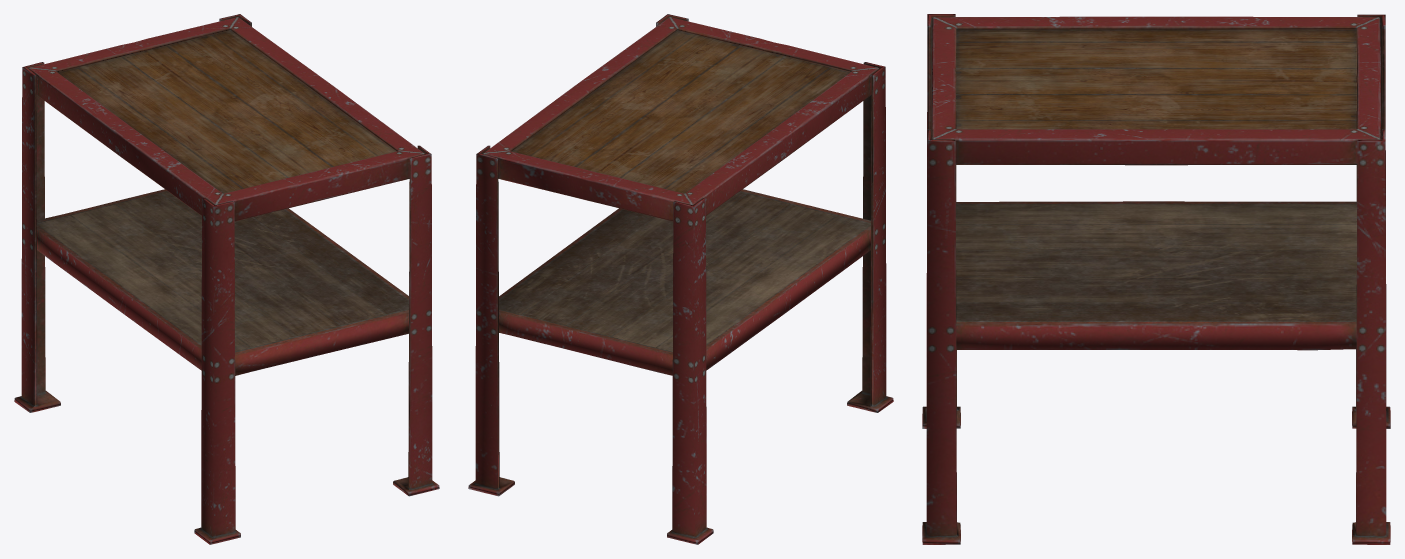
File: table.glb
The picture shows the model from 3 angles, left to right: view 1: azimuth 30°, elevation 25°; view 2: azimuth 150°, elevation 25°; view 3: azimuth 270°, elevation 25°; orthographic projection. The views are drawn at different scales.
Parts seen in each view (by area): view 1: g (×4); view 2: g (×4); view 3: g (×4).
Boxes of the visible parts, bbox=[...] form: g (×4): bbox=[14, 14, 439, 544]; g (×4): bbox=[468, 14, 893, 544]; g (×4): bbox=[922, 14, 1390, 544].
Bounding box in the file's own units: 0.6835 × 0.9524 × 1.01.
1 material, 1 textured.
